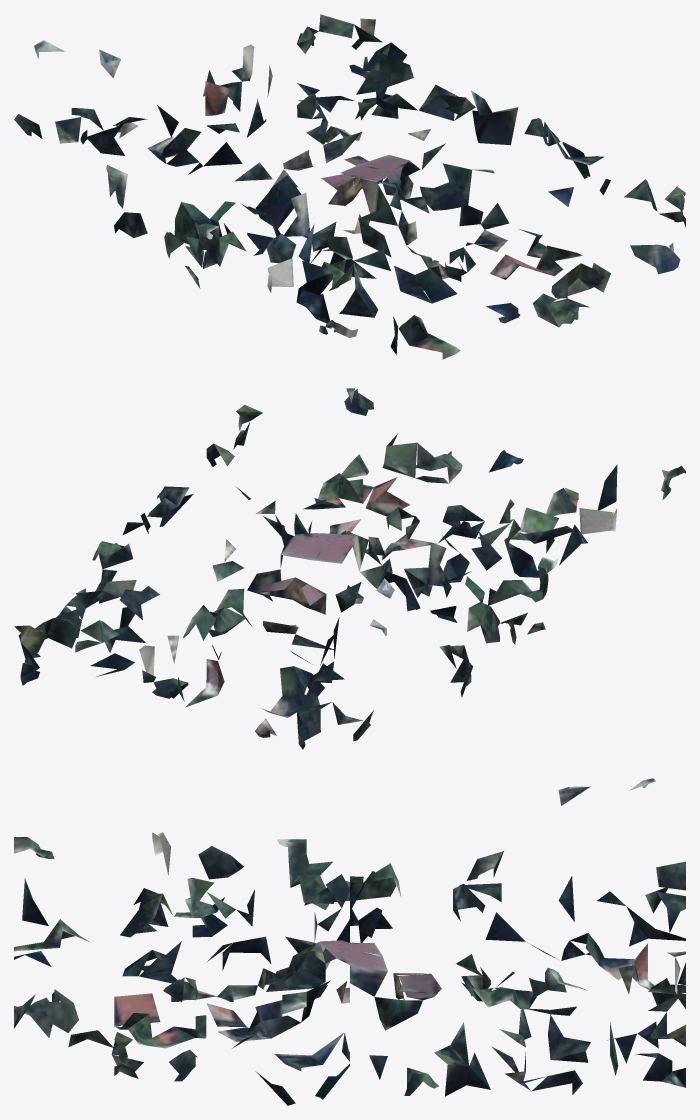
3 renders of one model, top to bottom at view 1: azimuth 30°, elevation 25°; view 2: azimuth 150°, elevation 25°; view 3: azimuth 270°, elevation 25°, orthographic. The views are drawn at different scales.
Visible parts, largest first — view 1: 304362727043704147_1; view 2: 304362727043704147_1; view 3: 304362727043704147_1.
Part boxes in pixels (x1,y1,x2,y2): 304362727043704147_1: (14, 14, 685, 359); 304362727043704147_1: (14, 388, 685, 749); 304362727043704147_1: (14, 778, 685, 1105).
Bounding box in the file's own units: 111 × 36.96 × 153.
1 material, 1 textured.
